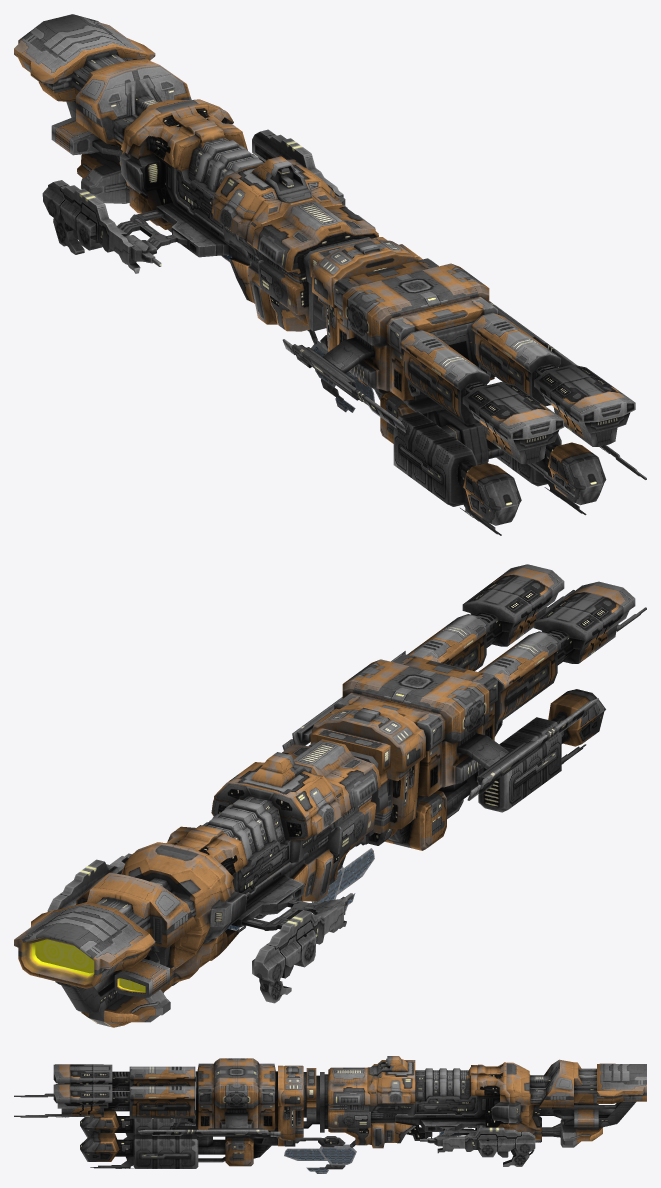
The model's file is 29990_Loki1112_lite.glb.
3 renders of one model, top to bottom at view 1: azimuth 30°, elevation 25°; view 2: azimuth 150°, elevation 25°; view 3: azimuth 270°, elevation 25°, orthographic. The views are drawn at different scales.
Visible parts, largest first — view 1: msc1_t3_s1v1, msc1_t3_s4v2, msc1_t3_s3v1, msc1_t3_s2v1; view 2: msc1_t3_s1v1, msc1_t3_s4v2, msc1_t3_s2v1, msc1_t3_s3v1; view 3: msc1_t3_s1v1, msc1_t3_s4v2, msc1_t3_s3v1, msc1_t3_s2v1.
Part boxes in pixels (<box>): msc1_t3_s1v1: <box>252,199,646,535</box>; msc1_t3_s4v2: <box>14,14,222,213</box>; msc1_t3_s3v1: <box>42,103,347,302</box>; msc1_t3_s2v1: <box>172,126,342,324</box>; msc1_t3_s1v1: <box>280,564,646,911</box>; msc1_t3_s4v2: <box>14,844,231,1027</box>; msc1_t3_s2v1: <box>175,752,345,901</box>; msc1_t3_s3v1: <box>47,829,352,1003</box>; msc1_t3_s1v1: <box>14,1058,370,1173</box>; msc1_t3_s4v2: <box>506,1059,646,1147</box>; msc1_t3_s3v1: <box>395,1062,535,1166</box>; msc1_t3_s2v1: <box>367,1056,477,1148</box>.
Size of the model in its own units: 1.14 by 0.9714 by 4.81.
7 materials, 7 textured.
